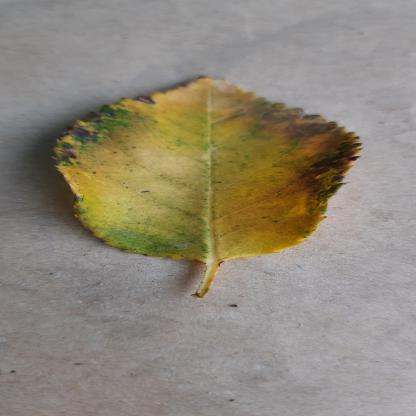black-spot: (40, 75, 374, 260)
